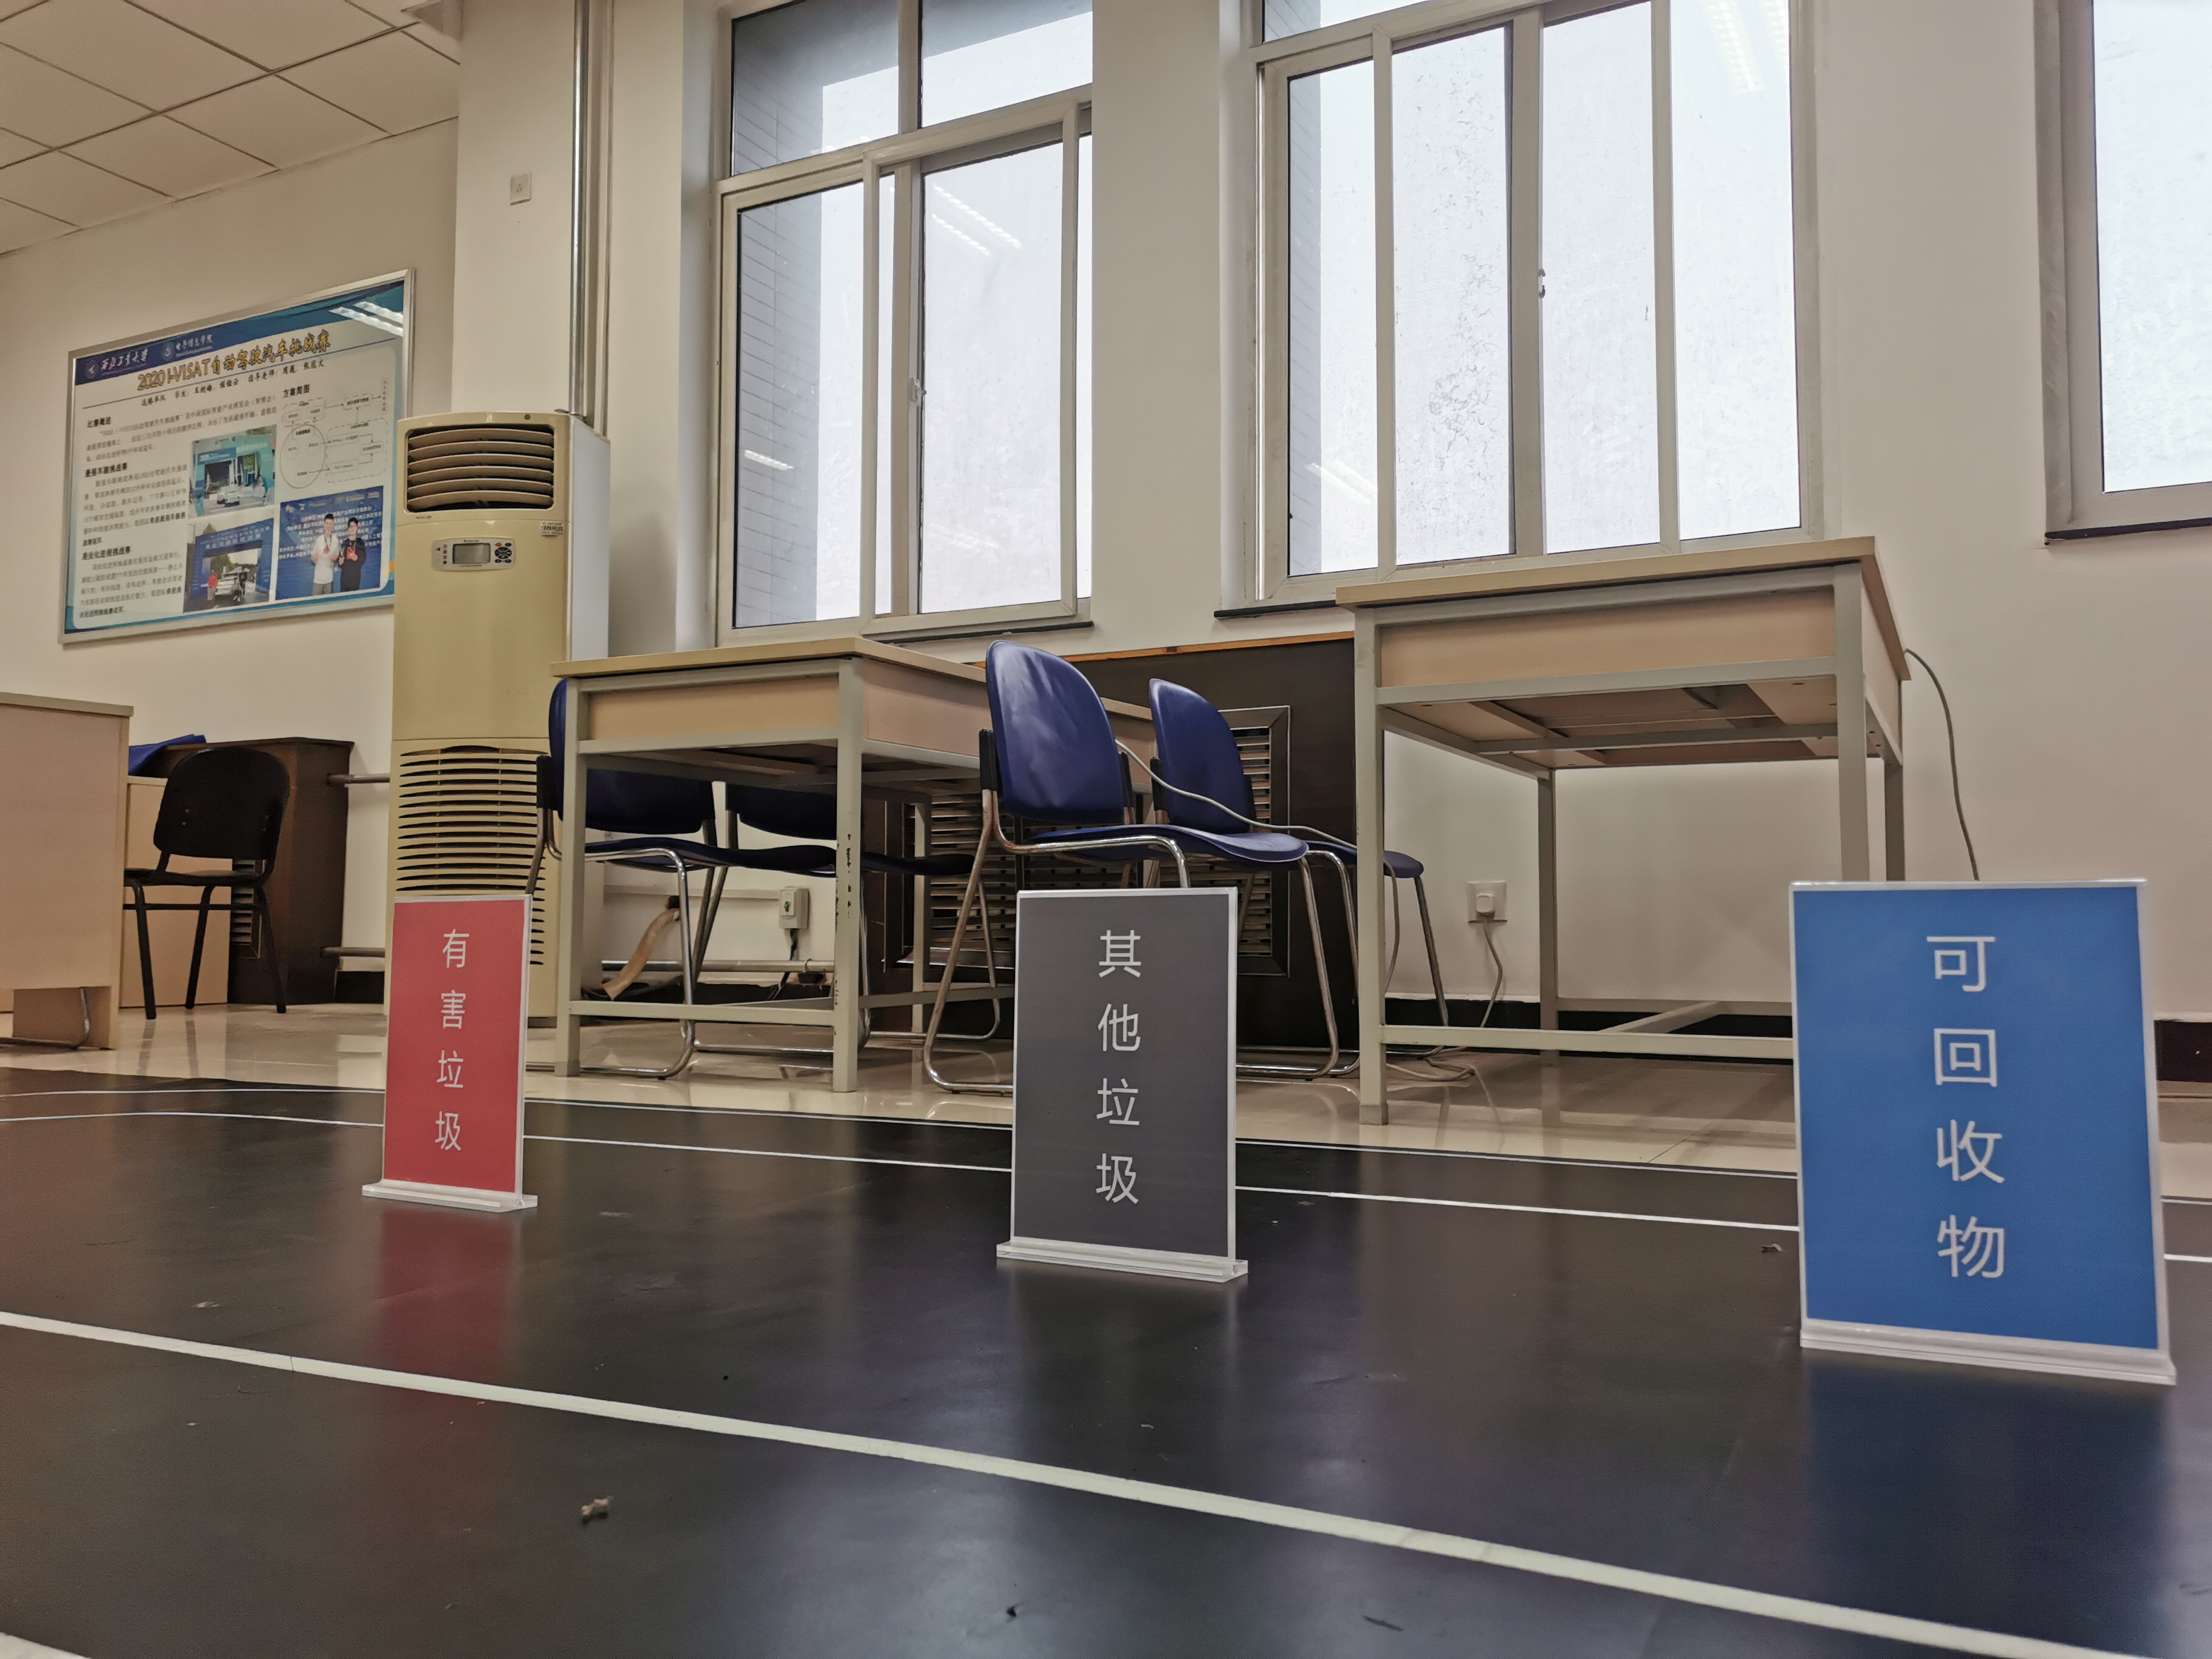black: (1024, 904, 1224, 1229)
blue: (1806, 899, 2144, 1310)
red: (397, 906, 516, 1180)
